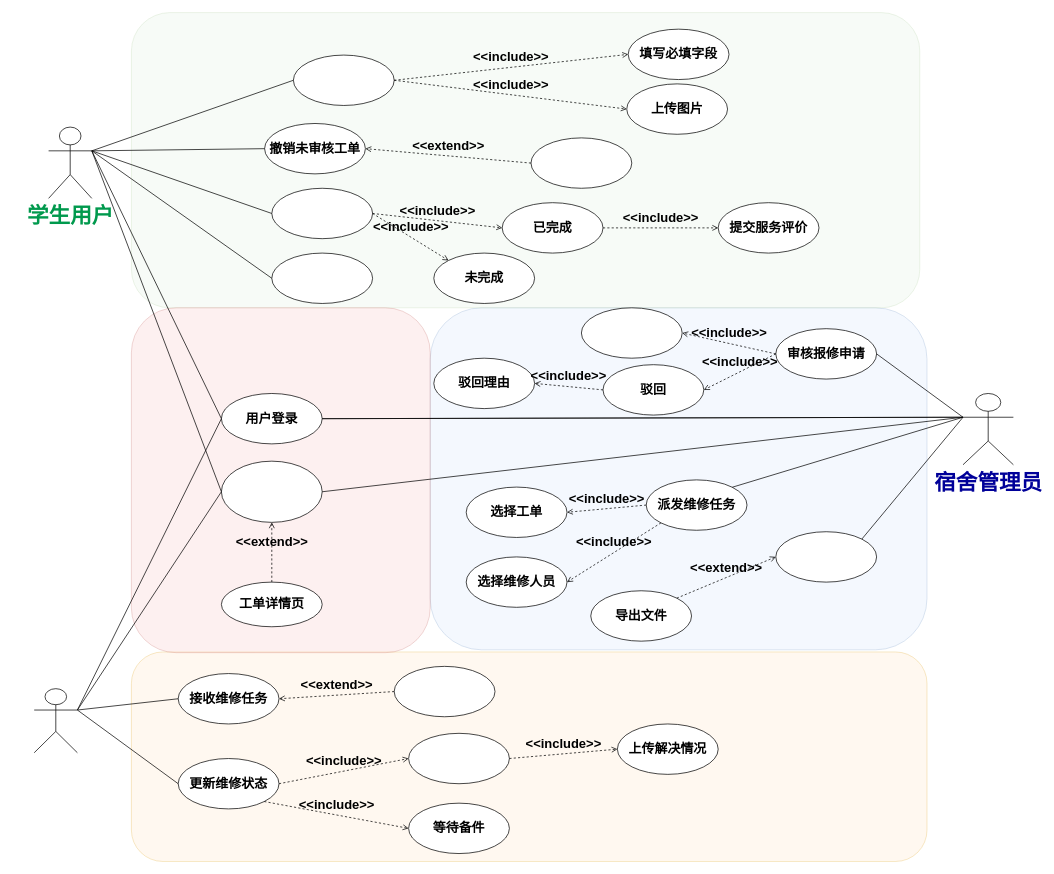
Some shapes in this 1054 by 874 pixel diagram are drawn without their labels. The box of each missing label's shape, as (x1, y1, x2, y2) in pixels:
已审核，无法撤销: (530, 137, 632, 188)
提交投诉申请: (271, 252, 373, 303)
提交报修申请: (293, 54, 394, 105)
查看工单进度: (221, 460, 322, 522)
查看统计报表: (775, 531, 877, 582)
申请转单: (393, 666, 495, 717)
确认维修完成: (271, 188, 373, 239)
维修人员: (33, 688, 77, 753)
维修完成: (408, 733, 509, 784)
通过: (581, 307, 682, 358)
